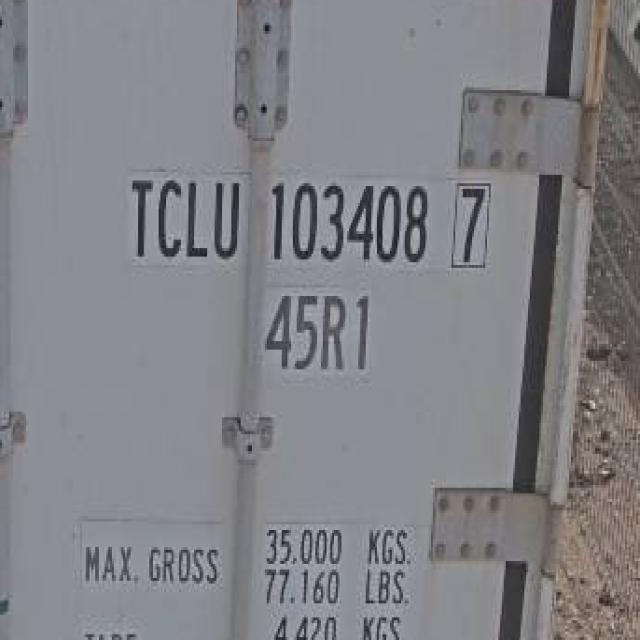dv: (445, 173, 494, 274)
owner: (125, 164, 242, 266)
serial: (264, 170, 434, 271)
size: (261, 284, 376, 381)
